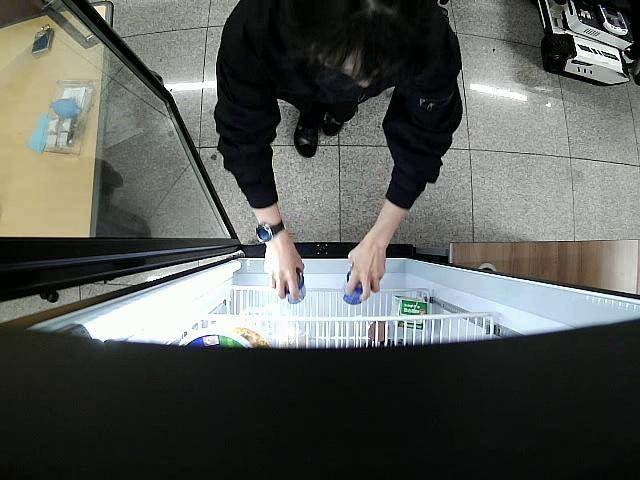13_pocariSweat: (344, 268, 368, 307), (281, 267, 304, 304)
